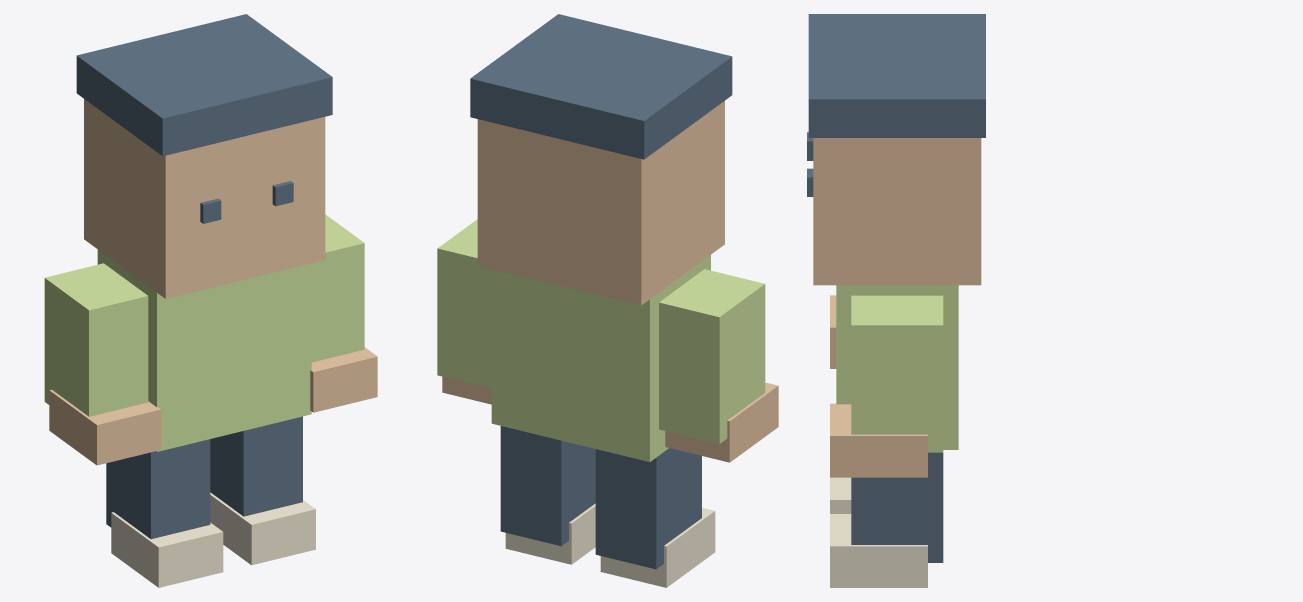
Rendered from bench.glb.
3 renders of one model, left to right at view 1: azimuth 30°, elevation 25°; view 2: azimuth 150°, elevation 25°; view 3: azimuth 270°, elevation 25°, orthographic. The views are drawn at different scales.
Parts seen in each view (by area): view 1: Preview_head, Preview_body, Preview_hair, Preview_LeftArm, Preview_LeftLeg, Preview_RightLeg, Preview_RightArm, Preview_tip.002, Preview_tip, Preview_tip.003, Preview_tip.001, Preview_eye (+1 smaller); view 2: Preview_head, Preview_body, Preview_hair, Preview_LeftArm, Preview_LeftLeg, Preview_RightLeg, Preview_RightArm, Preview_tip.002, Preview_tip, Preview_tip.003, Preview_tip.001; view 3: Preview_head, Preview_hair, Preview_RightArm, Preview_RightLeg, Preview_body, Preview_tip.001, Preview_tip.003, Preview_tip.002.
Boxes of the visible parts, bbox=[...] form: Preview_head: bbox=[84, 99, 325, 298]; Preview_body: bbox=[97, 249, 311, 451]; Preview_hair: bbox=[76, 14, 332, 156]; Preview_LeftArm: bbox=[44, 263, 148, 416]; Preview_LeftLeg: bbox=[106, 439, 210, 539]; Preview_RightLeg: bbox=[210, 416, 302, 516]; Preview_RightArm: bbox=[311, 214, 364, 362]; Preview_tip.002: bbox=[111, 512, 223, 587]; Preview_tip: bbox=[49, 389, 161, 465]; Preview_tip.003: bbox=[210, 492, 315, 565]; Preview_tip.001: bbox=[310, 347, 377, 412]; Preview_eye: bbox=[200, 198, 221, 223]; Preview_head: bbox=[477, 101, 724, 305]; Preview_body: bbox=[491, 255, 710, 461]; Preview_hair: bbox=[470, 14, 732, 159]; Preview_LeftArm: bbox=[659, 269, 765, 443]; Preview_LeftLeg: bbox=[595, 448, 701, 569]; Preview_RightLeg: bbox=[500, 426, 595, 546]; Preview_RightArm: bbox=[437, 219, 491, 388]; Preview_tip.002: bbox=[600, 508, 715, 587]; Preview_tip: bbox=[665, 382, 778, 462]; Preview_tip.003: bbox=[505, 503, 595, 564]; Preview_tip.001: bbox=[442, 376, 491, 404]; Preview_head: bbox=[813, 138, 981, 285]; Preview_hair: bbox=[808, 14, 985, 137]; Preview_RightArm: bbox=[851, 295, 943, 452]; Preview_RightLeg: bbox=[851, 452, 943, 562]; Preview_body: bbox=[836, 285, 958, 449]; Preview_tip.001: bbox=[830, 403, 927, 477]; Preview_tip.003: bbox=[830, 514, 927, 587]; Preview_tip.002: bbox=[830, 477, 851, 513].
Bounding box in the file's own units: 1.09 × 1.78 × 1.58.
